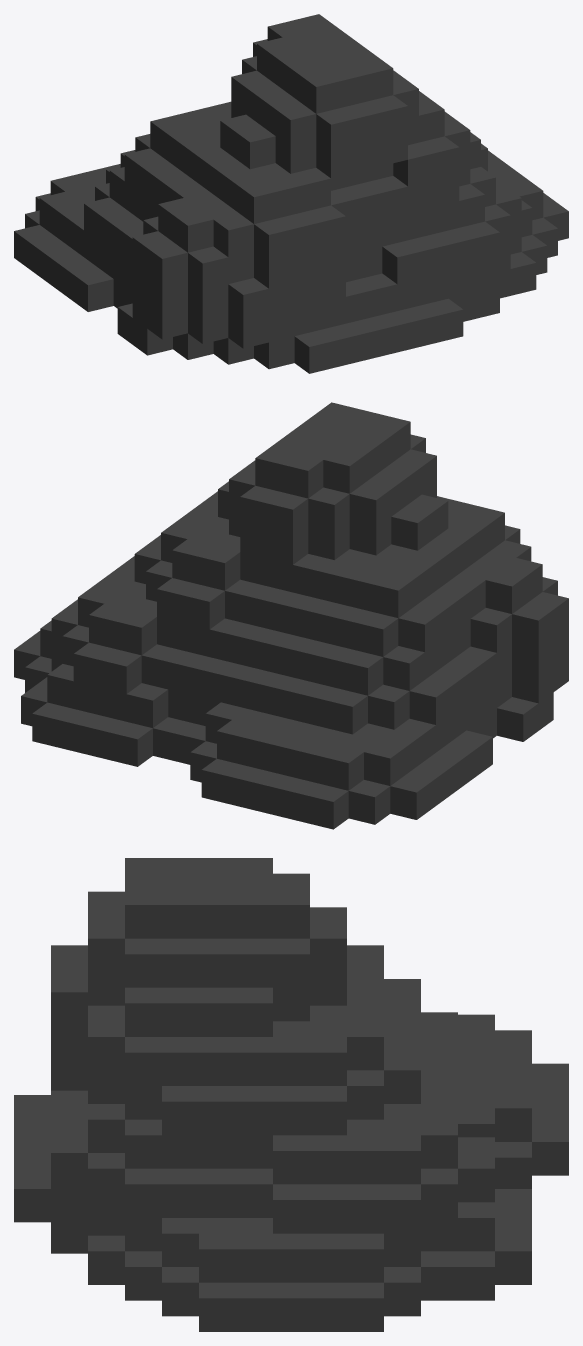
The model's file is stone_norm_05.obj.
3 views of the same model, one above another, from view 1: azimuth 30°, elevation 25°; view 2: azimuth 150°, elevation 25°; view 3: azimuth 270°, elevation 25° (orthographic). The views are drawn at different scales.
Bounding box in the file's own units: 1.7 × 0.9 × 1.5.
1 material, 1 textured.
